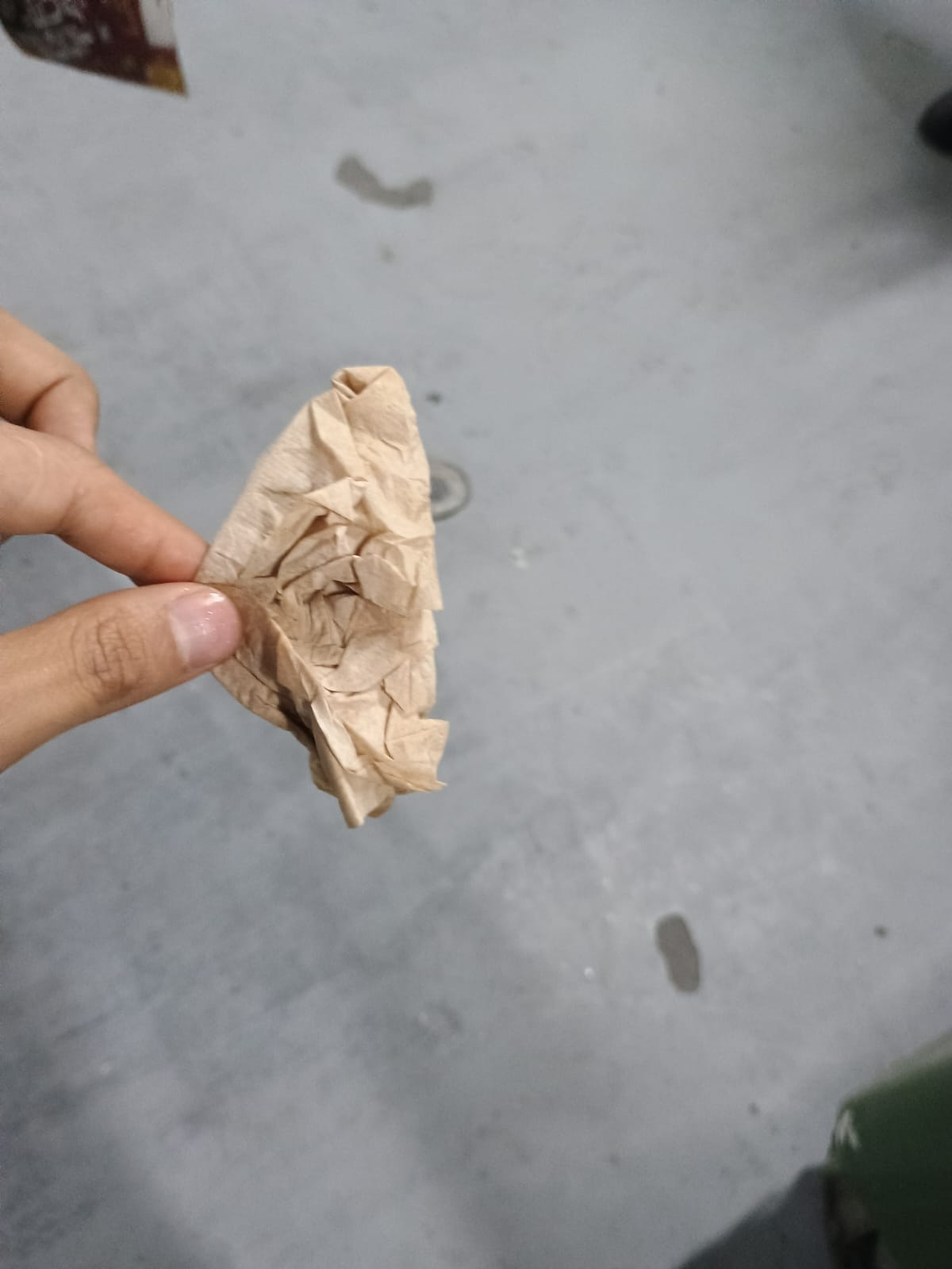Ordinario: (186, 368, 451, 828)
